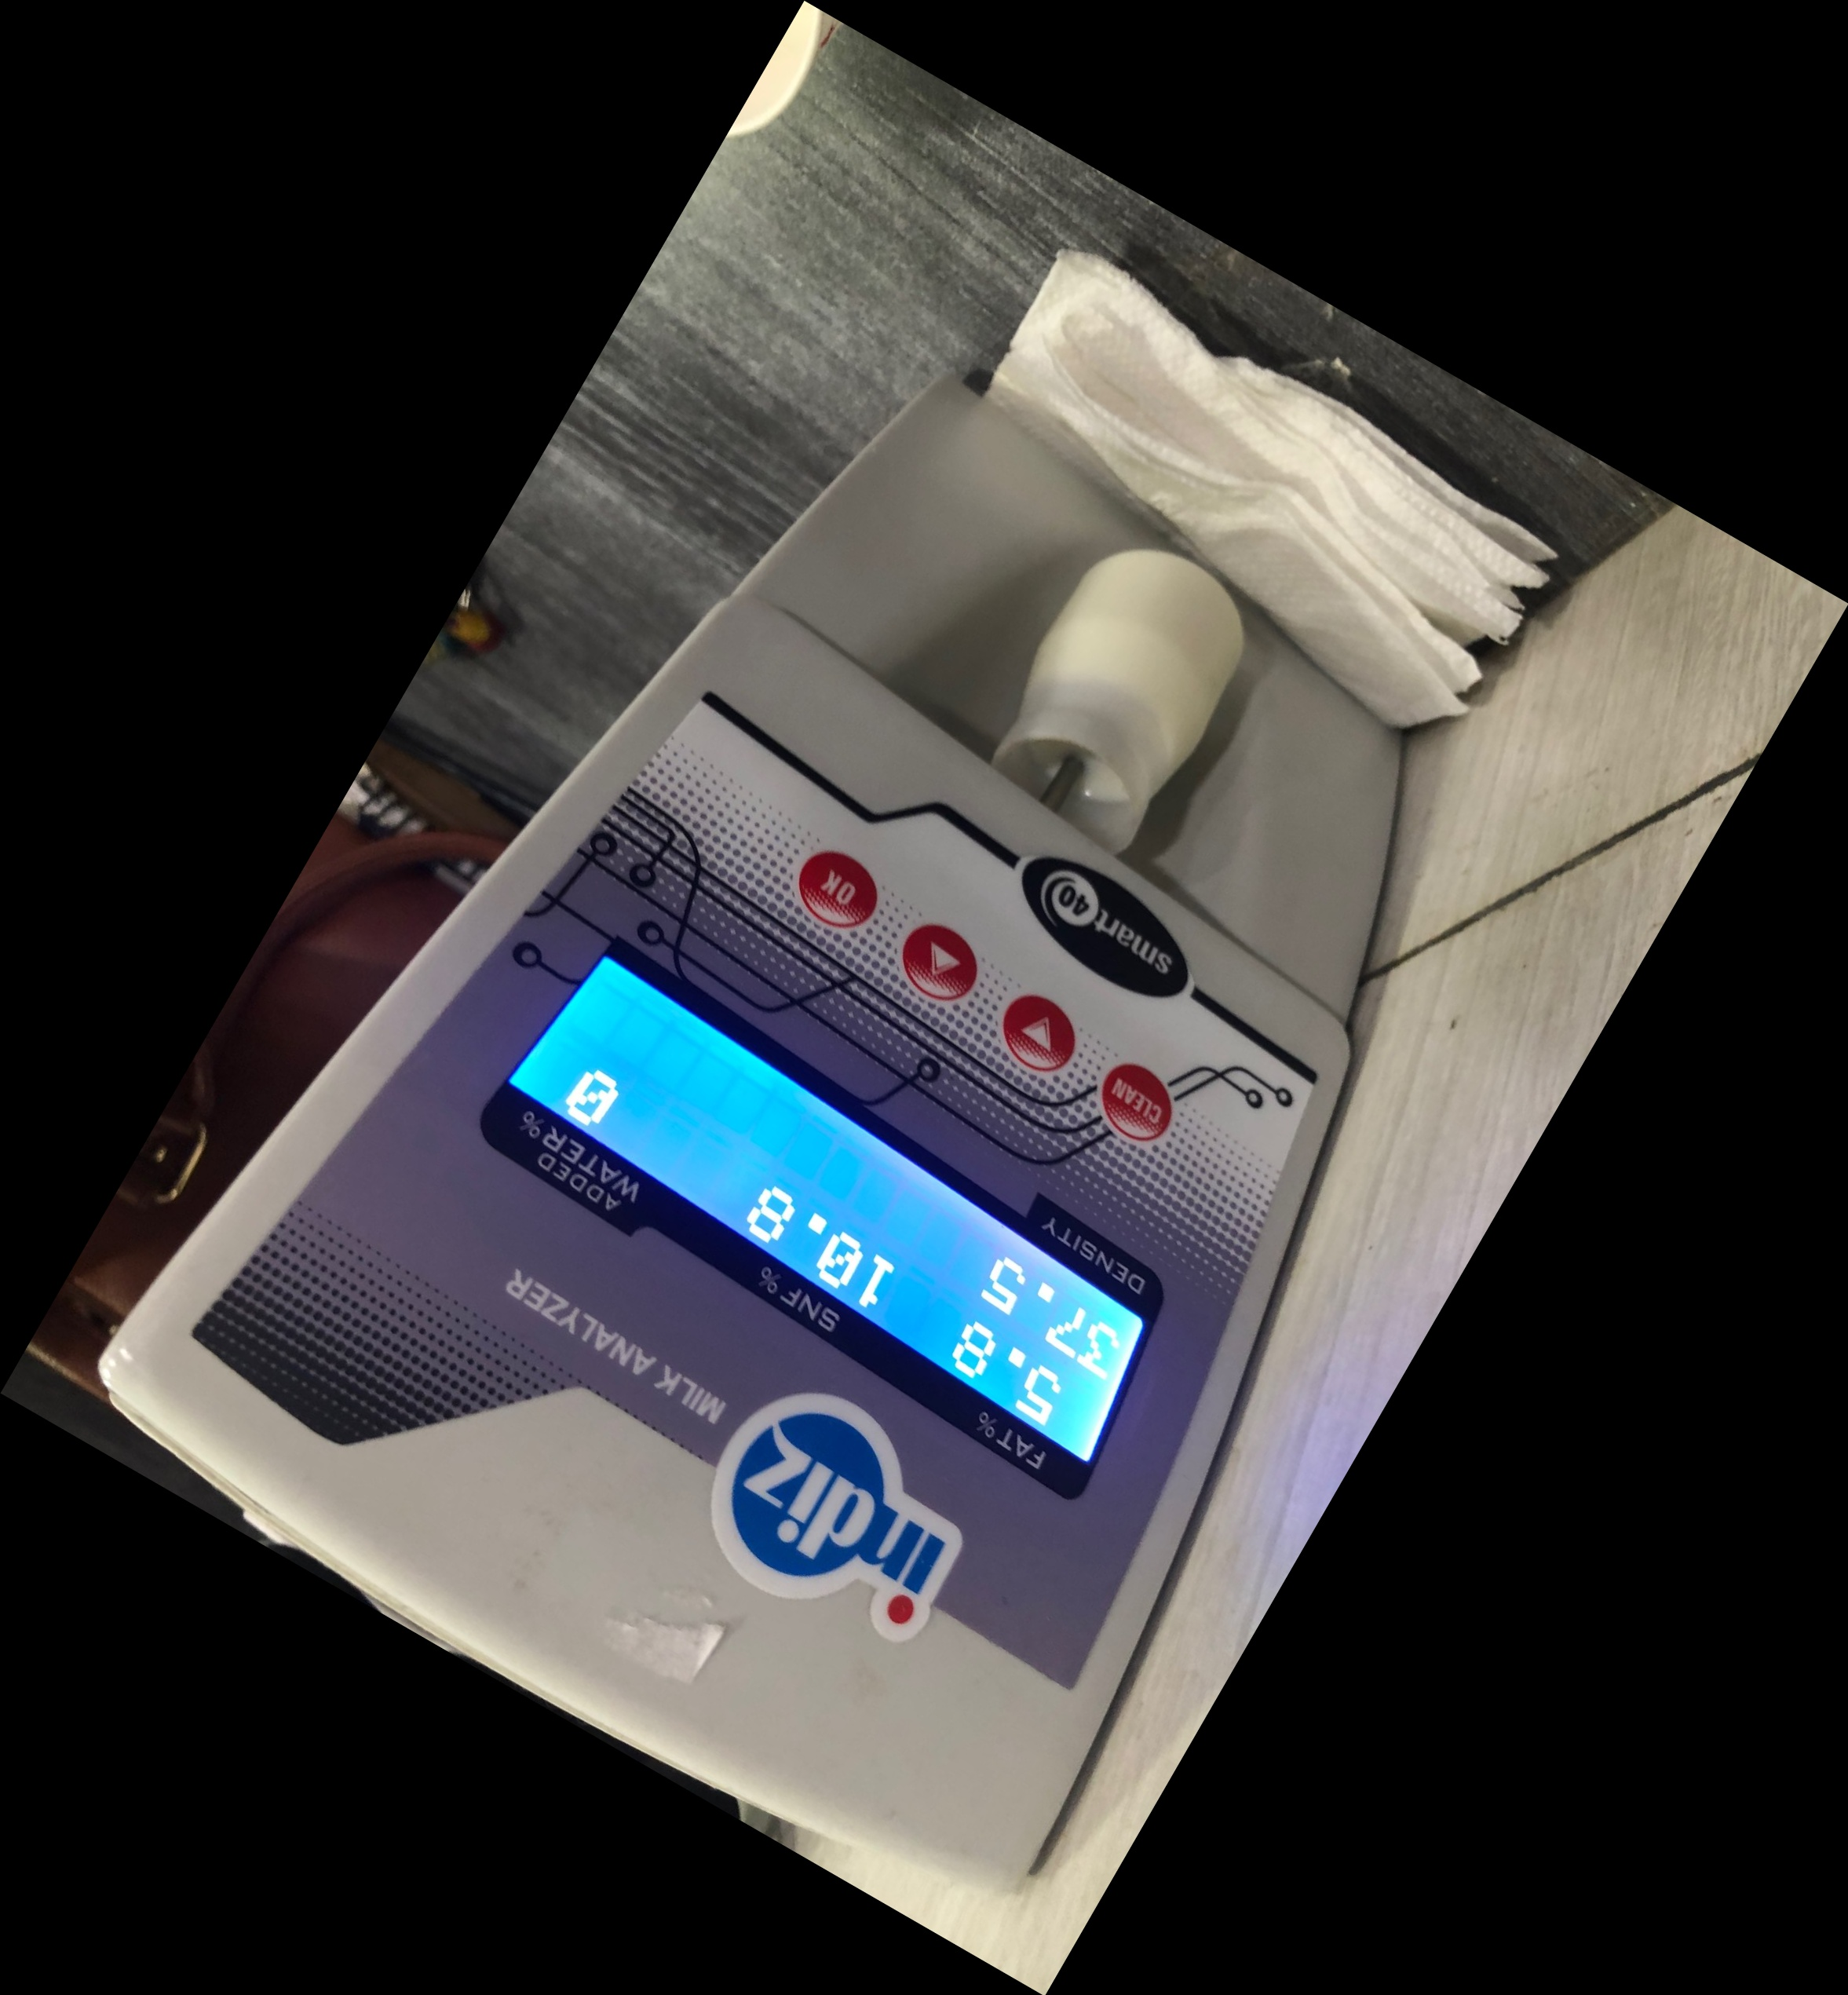lcd: (465, 937, 1179, 1534)
